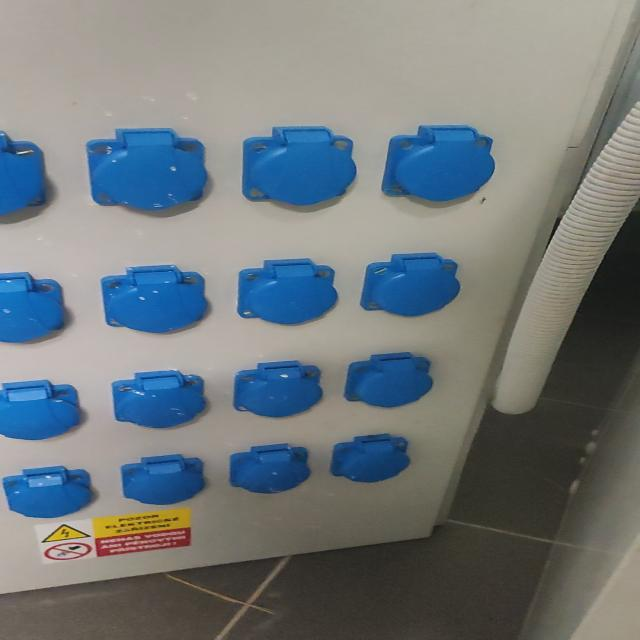house plug covered: (84, 128, 207, 210), (241, 125, 356, 205), (381, 125, 496, 201), (99, 264, 209, 333), (237, 258, 338, 324), (359, 253, 461, 316), (110, 369, 206, 428), (233, 360, 321, 417), (344, 352, 432, 407), (1, 465, 92, 518), (0, 380, 80, 440), (0, 272, 66, 342), (120, 454, 204, 505), (229, 443, 310, 494)
